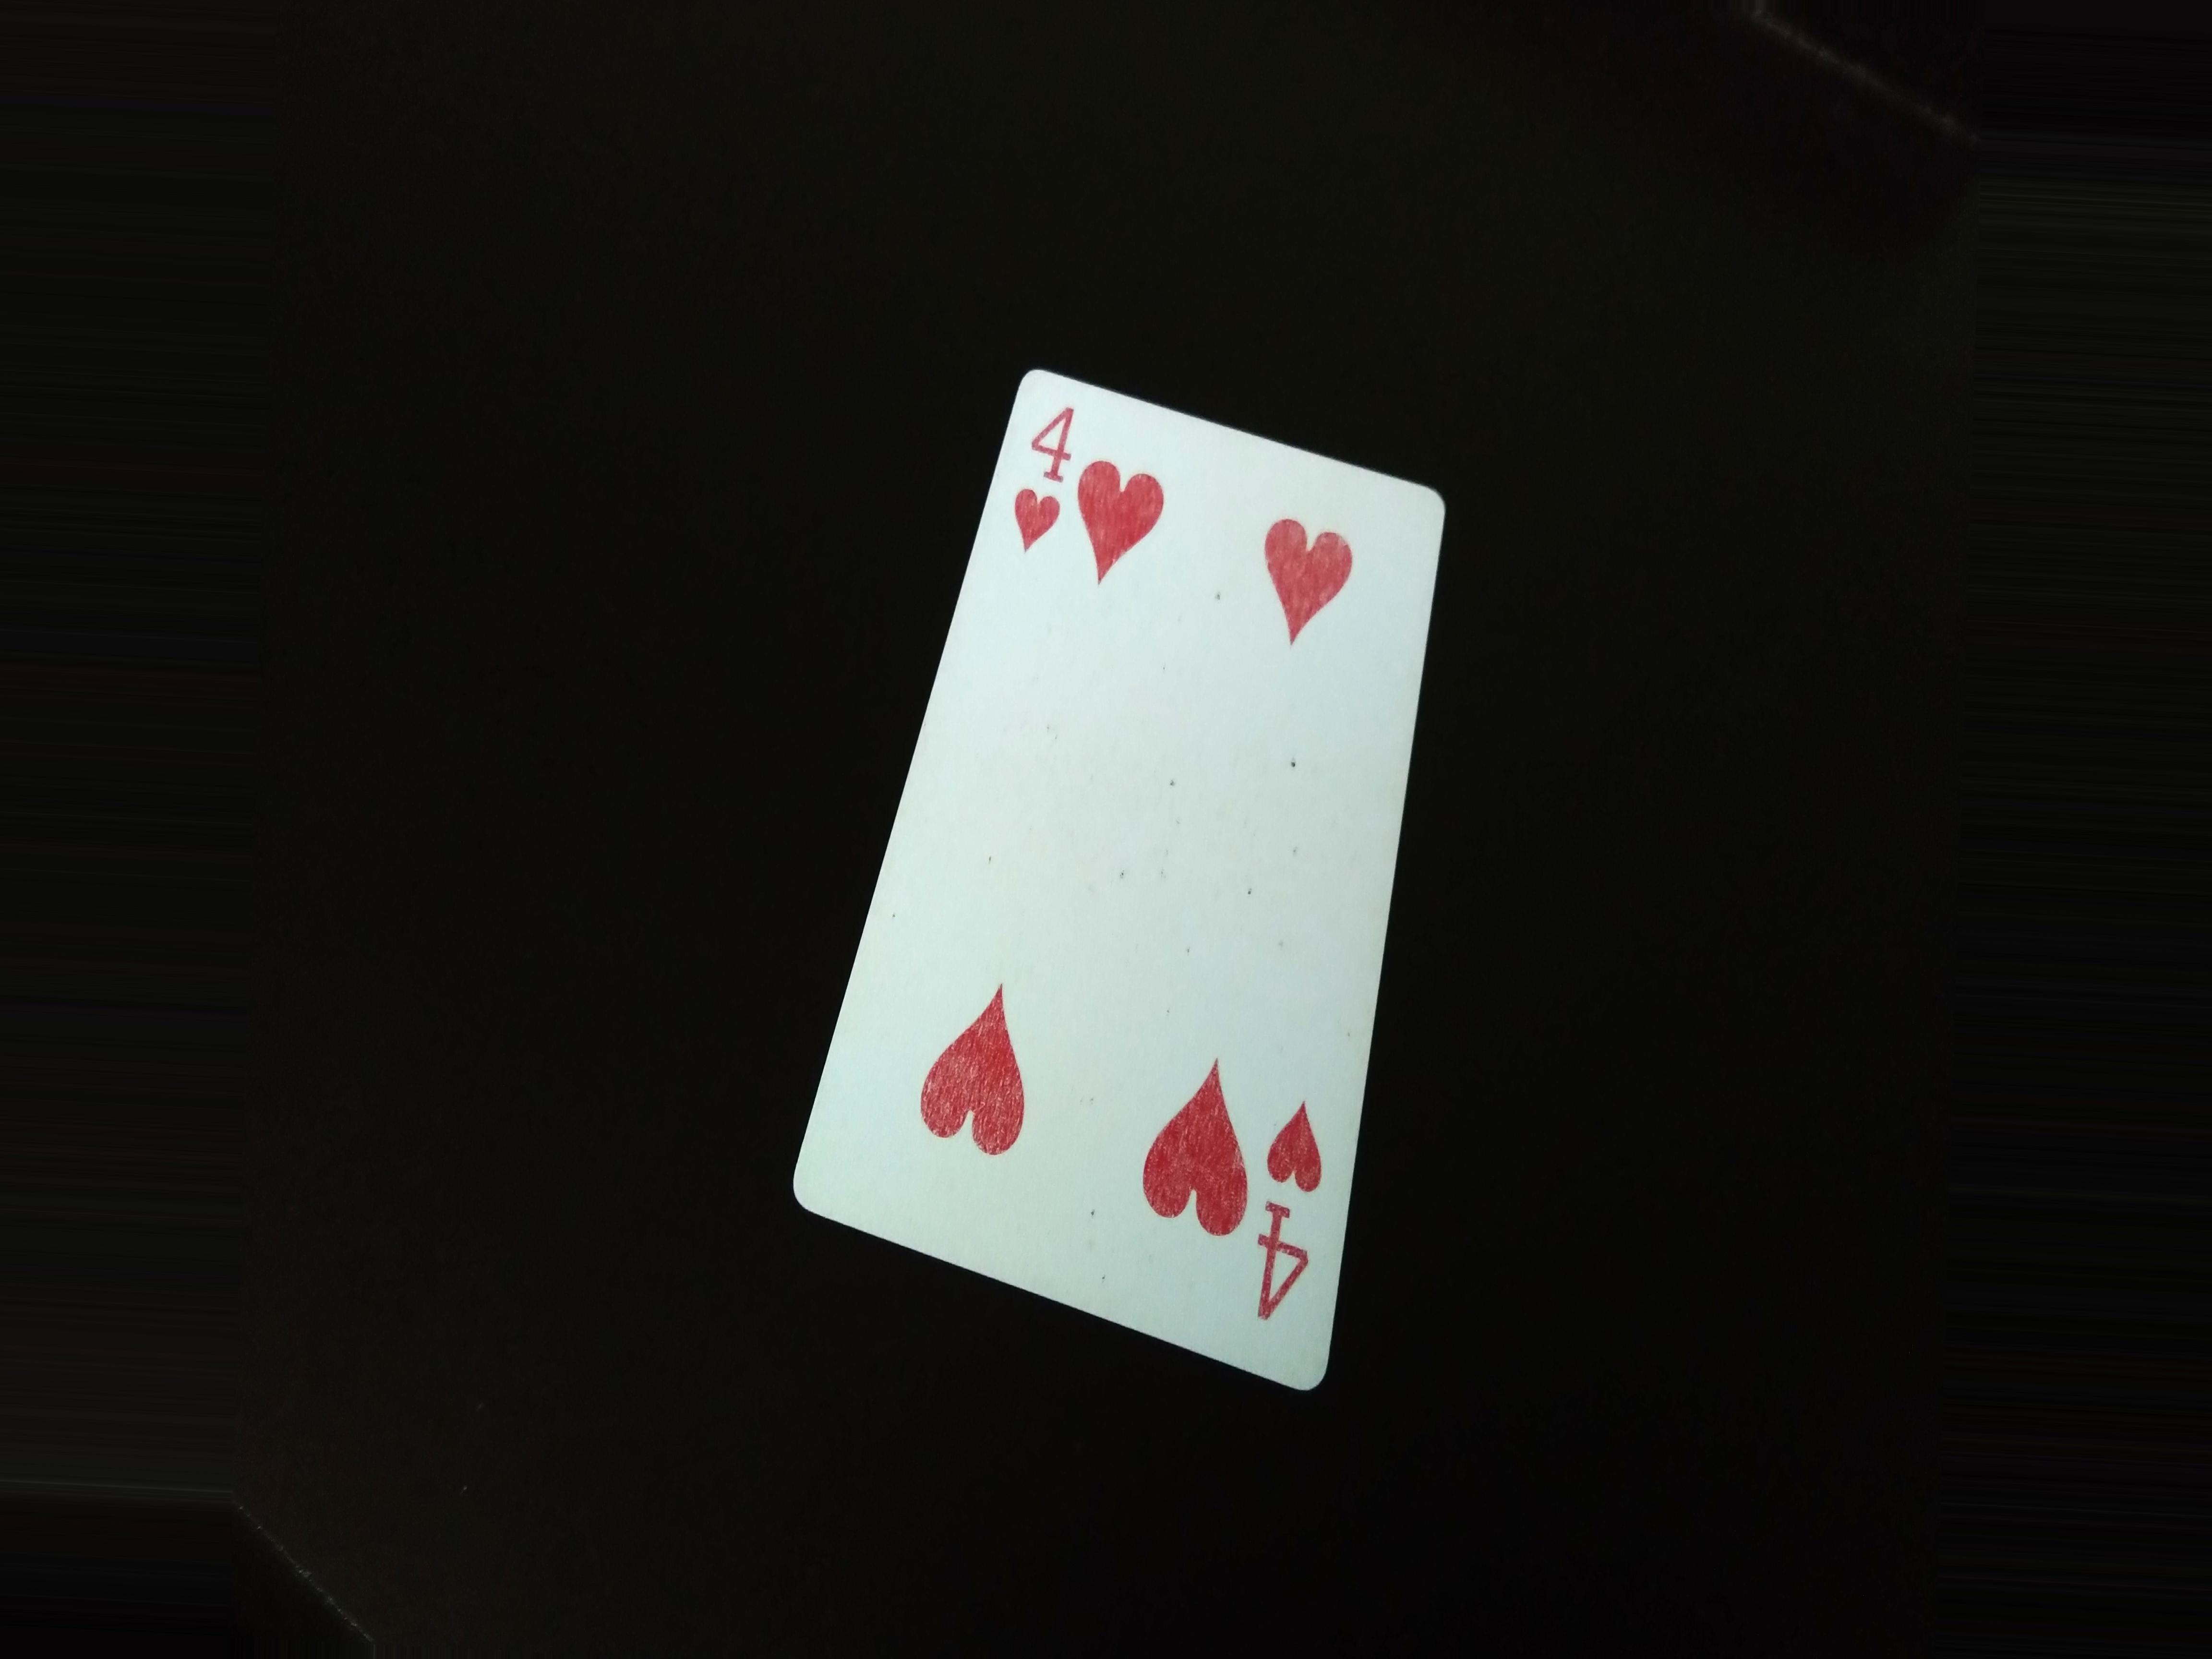4H: (1010, 399, 1080, 563)
